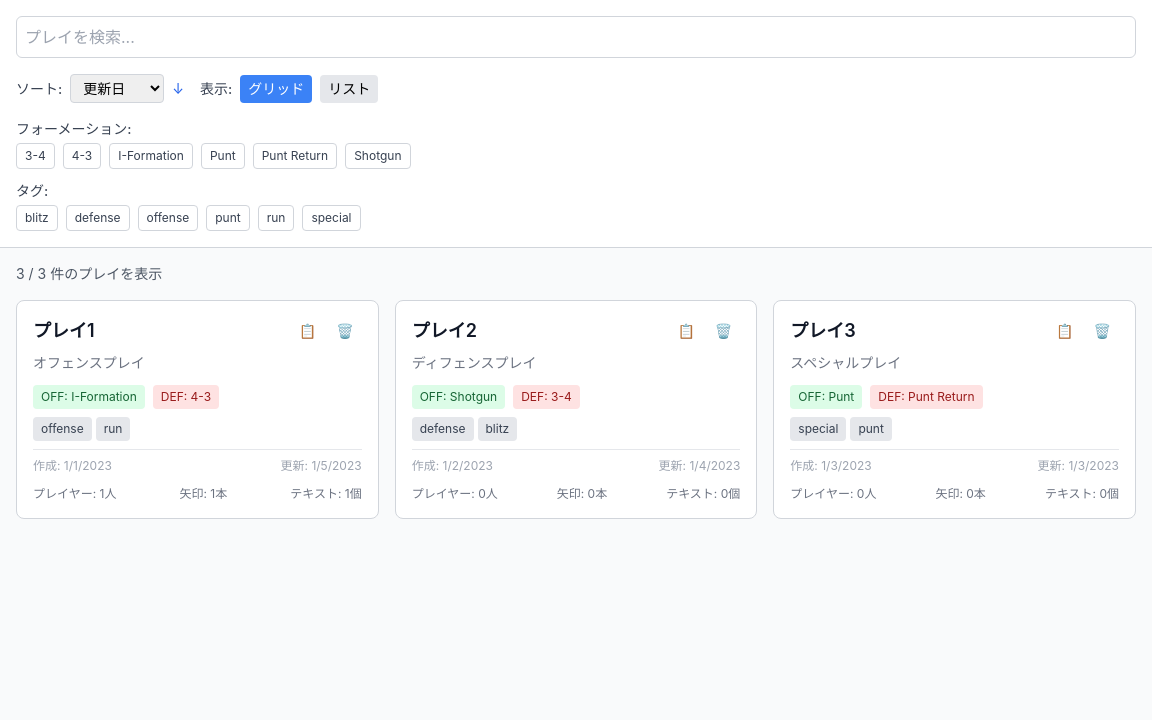
Scenario: PlayListView Component › フィルタリング機能 › フォーメーションフィルターが正常に動作すること
// フォーメーションフィルターボタンをクリック
What coordinates should you click on to do the following:
click the button "I-Formation"
I would click on:
 (151, 156)
Its box is [109,143,193,169].
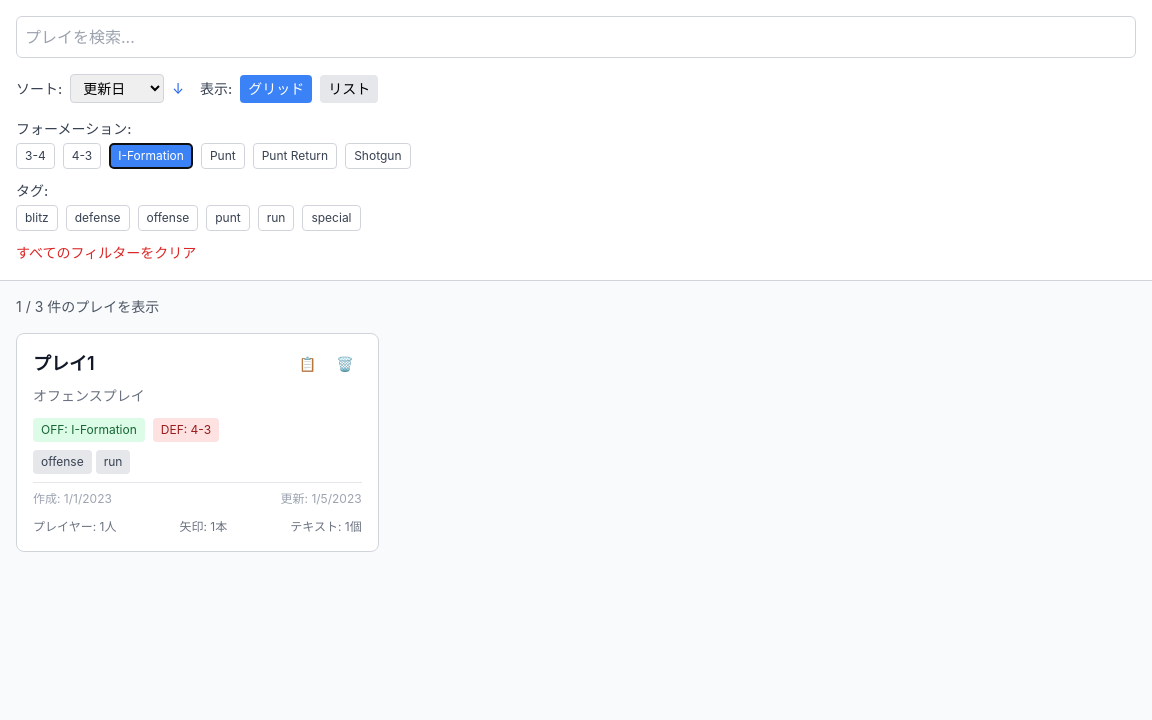
expect the heading "プレイ1" is shown: met, box [33,350,95,378]
expect the heading "プレイ2" is gone: met
